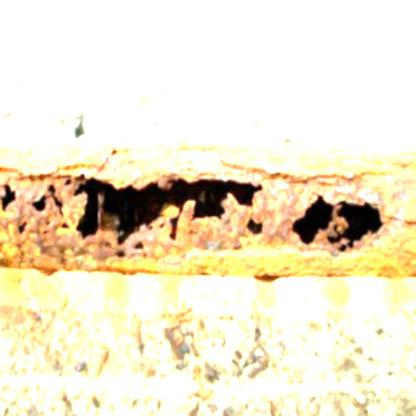burst: (52, 161, 268, 280), (282, 179, 394, 261)
